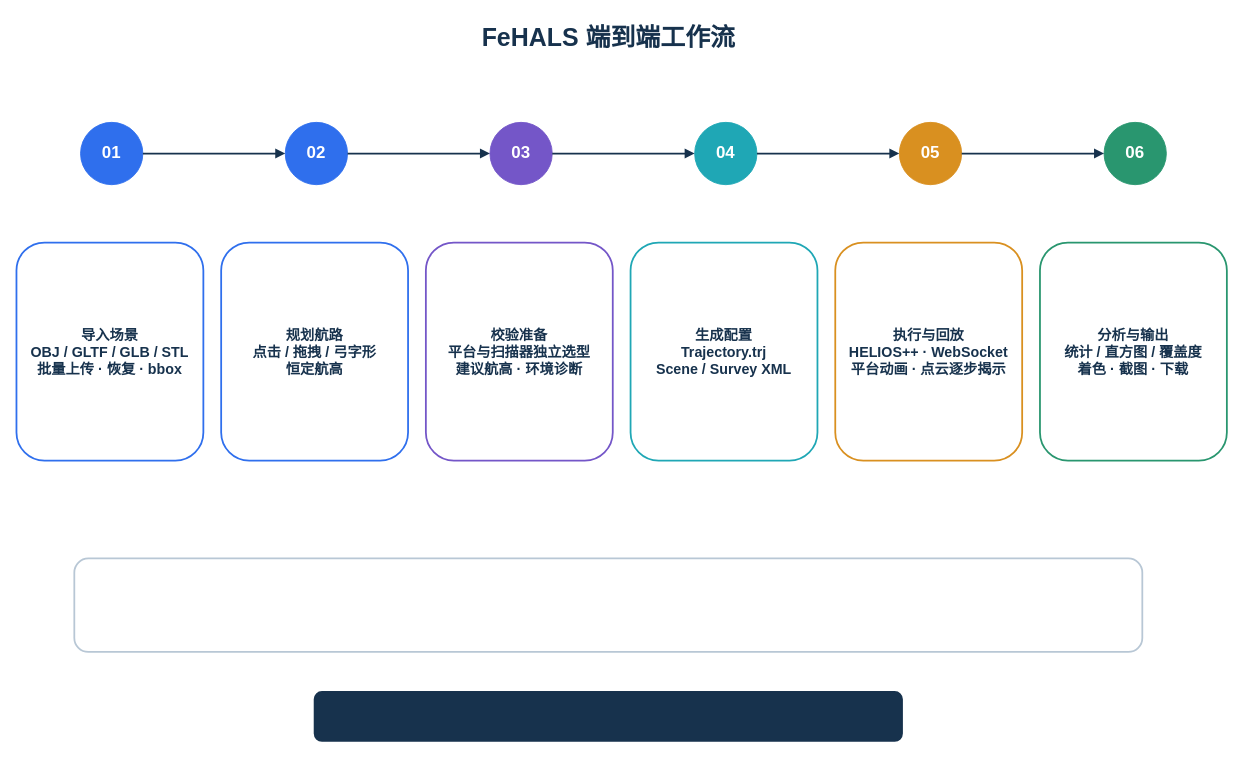
Some shapes in this 1242 by 757 pixel diagram are drawn without their labels. Here are the shapes that lost their labels. From the top down, the box of each, then its label:
(73, 557, 1143, 652): 职责分工 浏览器前端：三维交互、参数校验、动画回放、结果分析 | FastAPI 后端：文件生成、环境诊断、任务调度 | HELIOS++：光线追踪与点云生成
(313, 691, 902, 741): 闭环：统计与覆盖度检查 → 调整航路 / 航高 / 扫描器参数 → 再次仿真与回放
